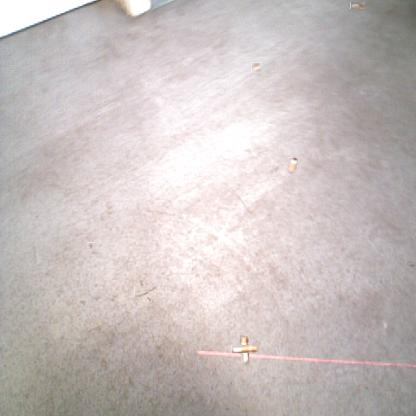dirty: (236, 341, 254, 358), (288, 157, 298, 172), (350, 1, 365, 10), (251, 62, 262, 73)
mark: (137, 283, 155, 300), (266, 164, 279, 176), (406, 262, 414, 270), (88, 242, 95, 250)
